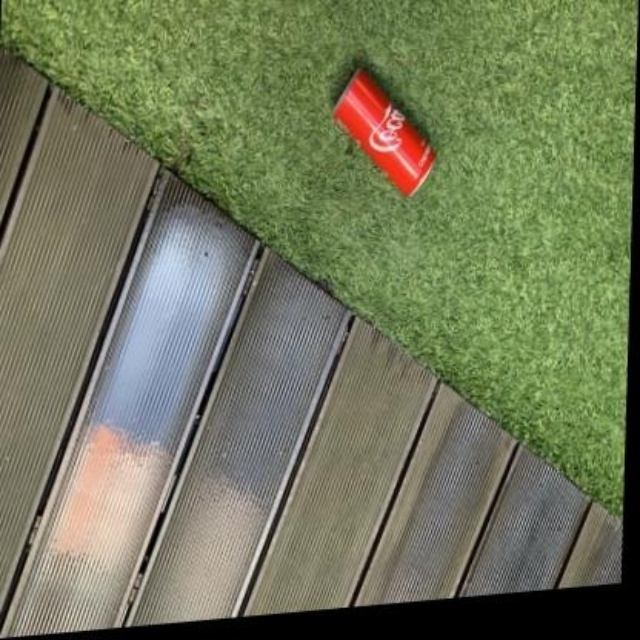trash: (334, 69, 434, 194)
